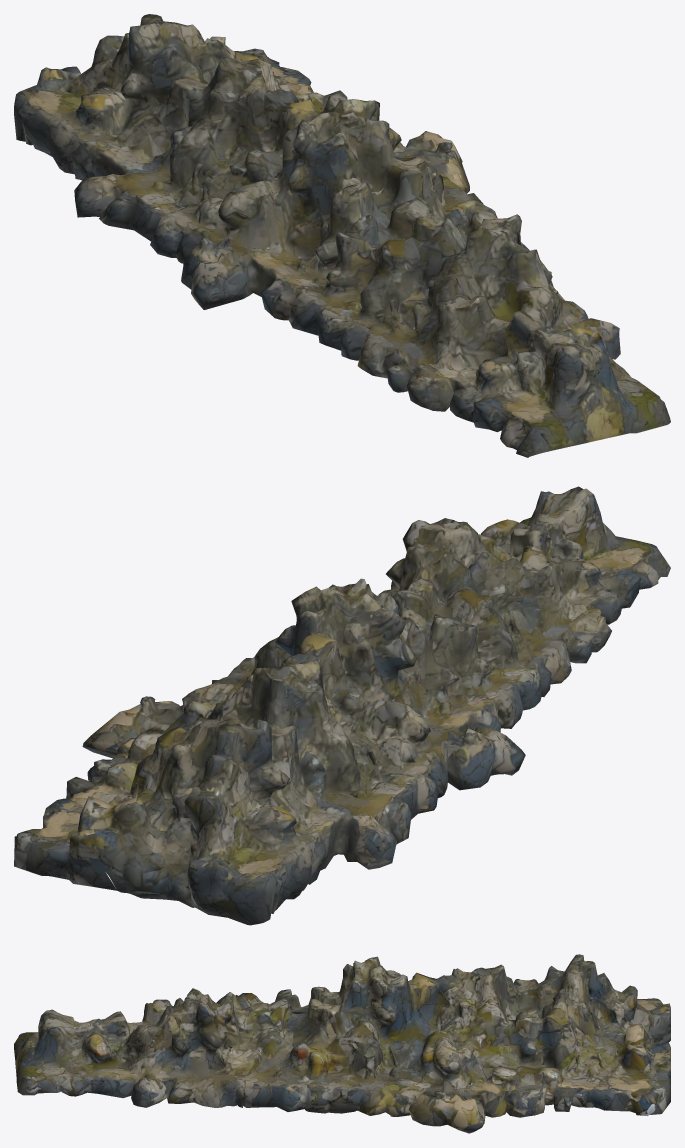
The model's file is VAL_Capital_Environment_Mountain_C.glb.
3 renders of one model, top to bottom at view 1: azimuth 30°, elevation 25°; view 2: azimuth 150°, elevation 25°; view 3: azimuth 270°, elevation 25°, orthographic. The views are drawn at different scales.
Visible parts, largest first — view 1: tripo_node_078ac57d-89ec-4ba6-b025-3bc5b7c35548; view 2: tripo_node_078ac57d-89ec-4ba6-b025-3bc5b7c35548; view 3: tripo_node_078ac57d-89ec-4ba6-b025-3bc5b7c35548.
Part boxes in pixels (x1,y1,x2,y2): tripo_node_078ac57d-89ec-4ba6-b025-3bc5b7c35548: [14, 14, 670, 457]; tripo_node_078ac57d-89ec-4ba6-b025-3bc5b7c35548: [14, 486, 670, 925]; tripo_node_078ac57d-89ec-4ba6-b025-3bc5b7c35548: [14, 954, 670, 1133].
Bounding box in the file's own units: 0.4199 × 0.1895 × 0.998.
Materials: 1 (1 with a texture image).
